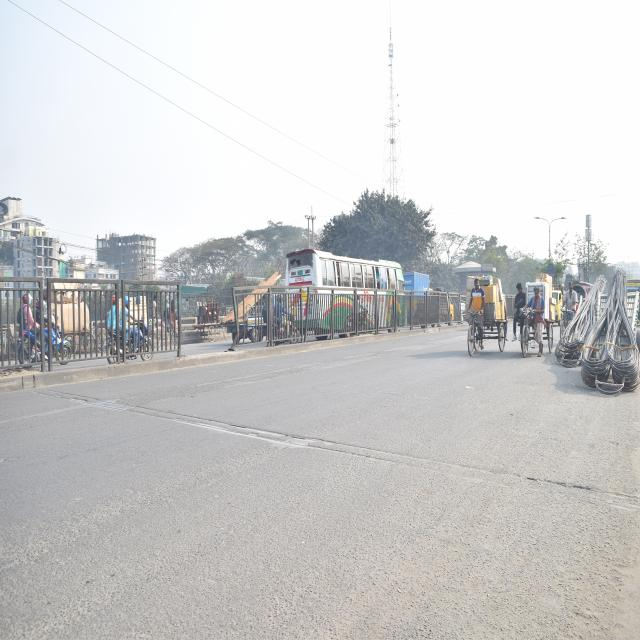bus: (284, 241, 408, 338)
motorbike: (99, 304, 160, 364)
pickup-van: (549, 279, 565, 326)
